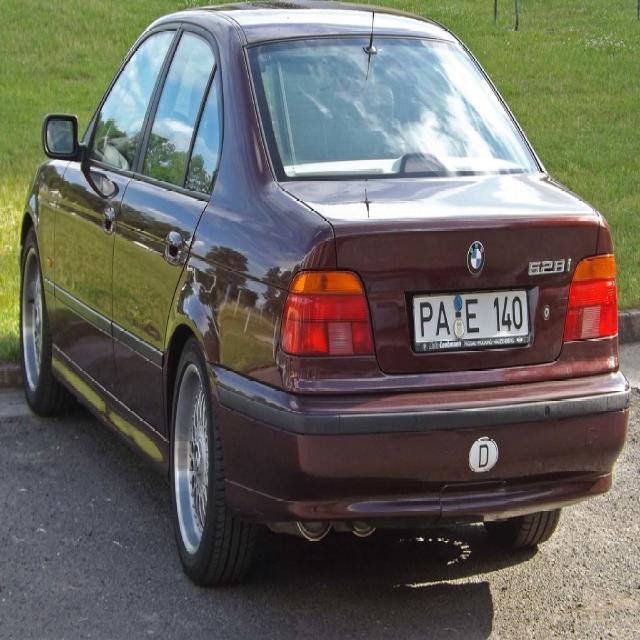car: (15, 0, 634, 594)
